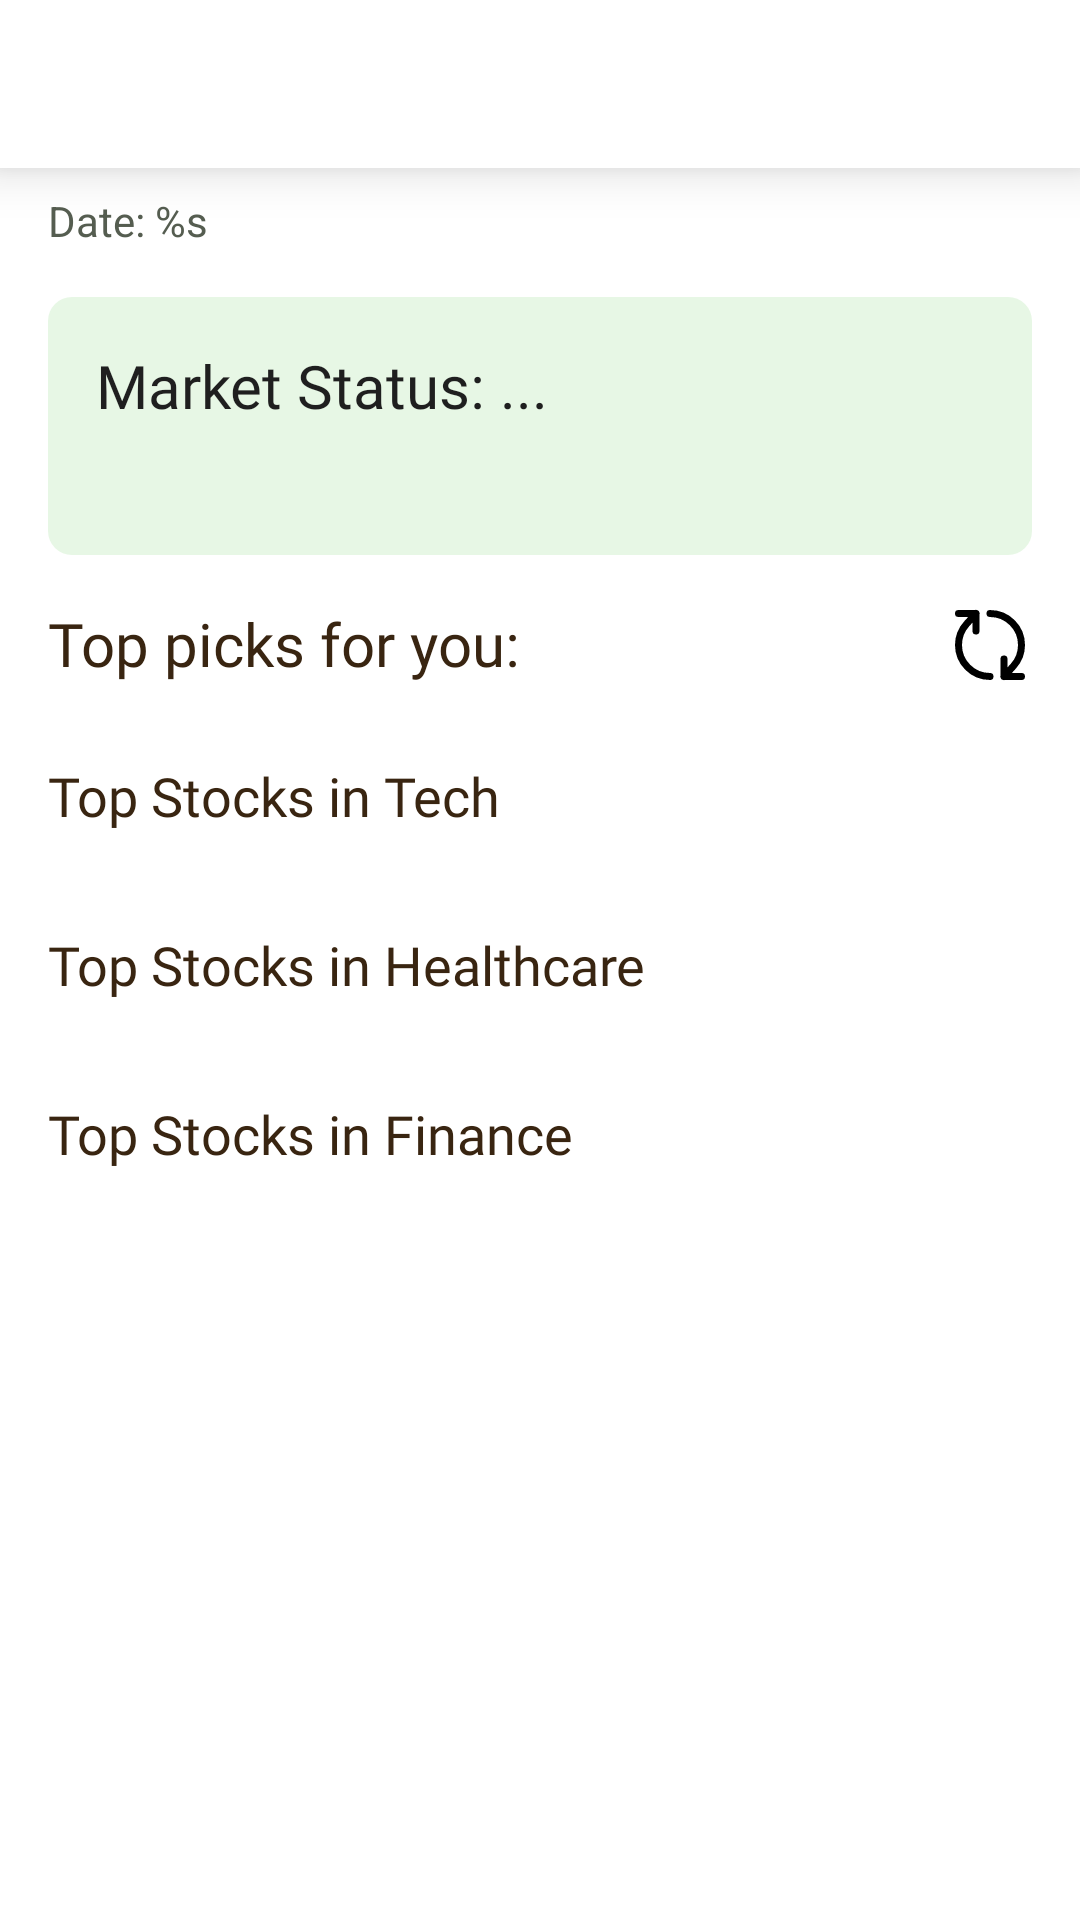

Icon bounding boxes for this 1080×1920 phone screenshot, format (x1, y1, x2, y2):
Refresh price: (955, 609, 1025, 680)
